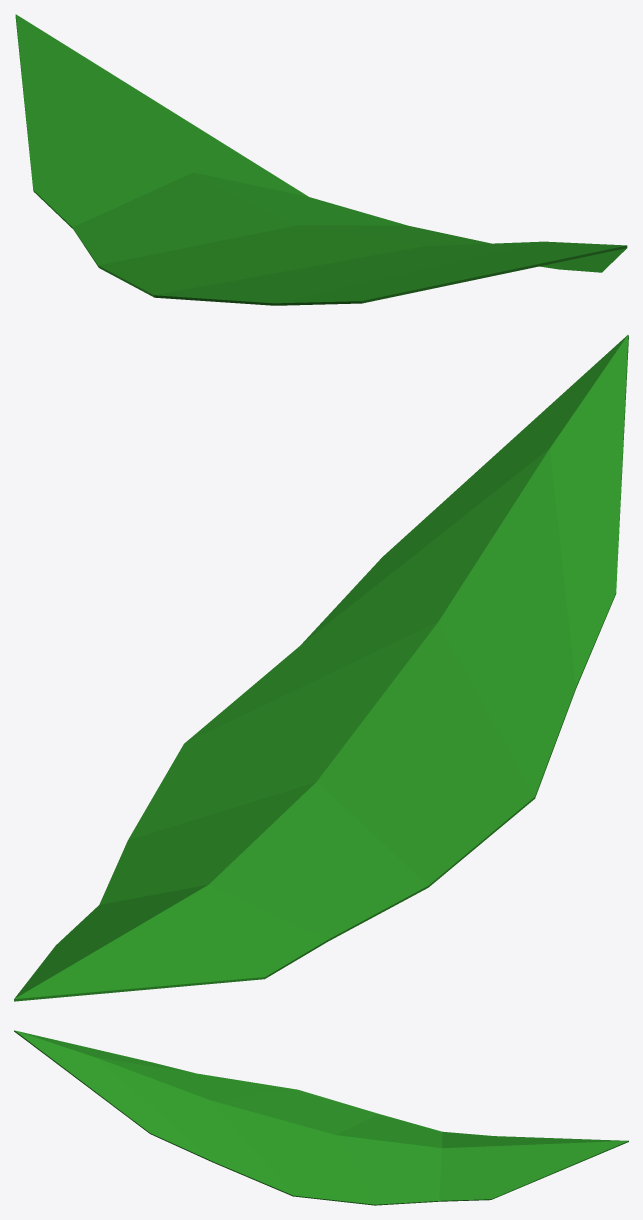
The model's file is oregano1.fbx.
The picture shows the model from 3 angles, top to bottom: view 1: azimuth 30°, elevation 25°; view 2: azimuth 150°, elevation 25°; view 3: azimuth 270°, elevation 25°; orthographic projection. The views are drawn at different scales.
Visible parts, largest first — view 1: GRAS.003; view 2: GRAS.003; view 3: GRAS.003.
Part boxes in pixels (x1,y1,x2,y2): GRAS.003: [15, 14, 627, 305]; GRAS.003: [14, 335, 628, 1001]; GRAS.003: [14, 1030, 628, 1205].
Bounding box in the file's own units: 2.64 × 2.06 × 7.86.
